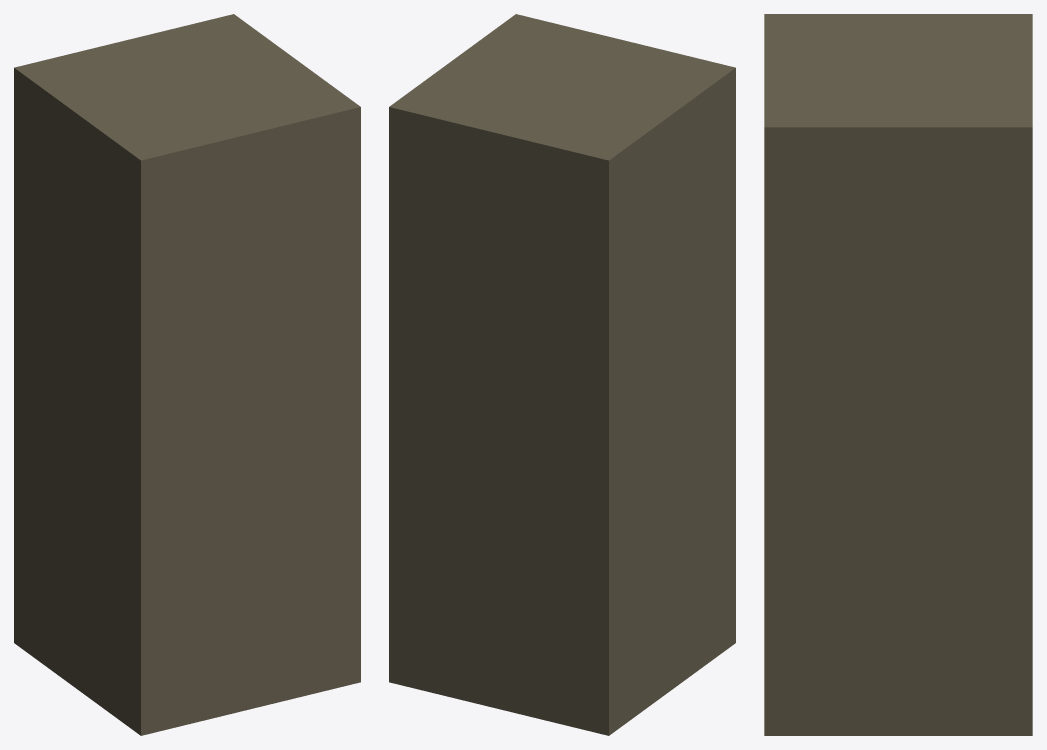
Rendered from NF_Wall_Short_B.fbx.
3 views of the same model, side by side, from view 1: azimuth 30°, elevation 25°; view 2: azimuth 150°, elevation 25°; view 3: azimuth 270°, elevation 25° (orthographic). The views are drawn at different scales.
Visible parts, largest first — view 1: NF_Wall_Short_B; view 2: NF_Wall_Short_B; view 3: NF_Wall_Short_B.
Boxes of the visible parts, x1=… form: NF_Wall_Short_B: x1=14, y1=14, x2=360, y2=735; NF_Wall_Short_B: x1=389, y1=14, x2=735, y2=735; NF_Wall_Short_B: x1=764, y1=14, x2=1032, y2=735.
Bounding box in the file's own units: 0.5 × 1.25 × 0.5.
Materials: 1 (1 with a texture image).
